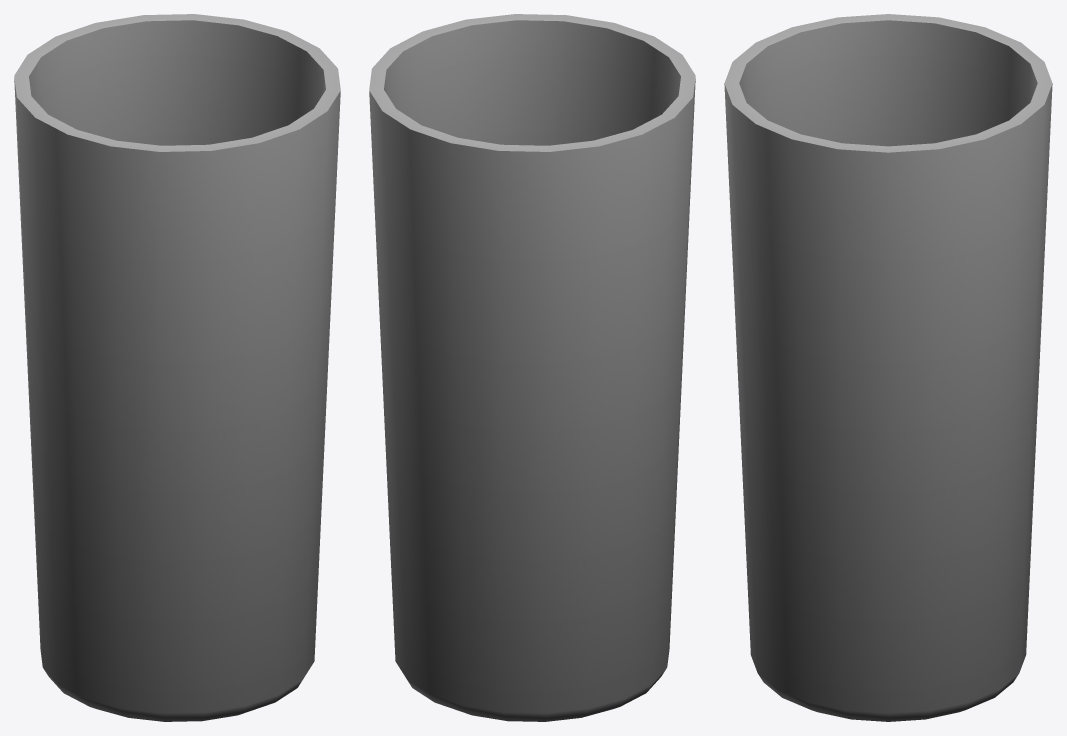
The model's file is cup_01.fbx.
The picture shows the model from 3 angles, left to right: view 1: azimuth 30°, elevation 25°; view 2: azimuth 150°, elevation 25°; view 3: azimuth 270°, elevation 25°; orthographic projection.
Visible parts, largest first — view 1: cup_1; view 2: cup_1; view 3: cup_1.
Boxes of the visible parts, x1,y1,x2,y2 form: cup_1: (14, 14, 340, 721); cup_1: (369, 14, 695, 721); cup_1: (724, 14, 1052, 721).
Bounding box in the file's own units: 0.1203 × 0.2378 × 0.1203.
